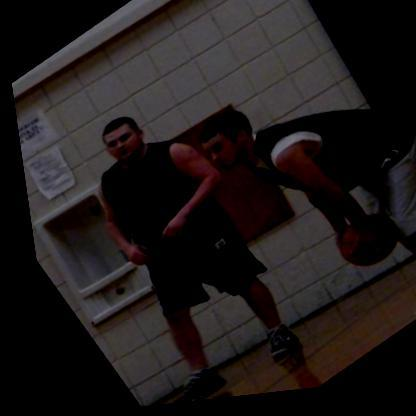basketball: (319, 208, 403, 285)
